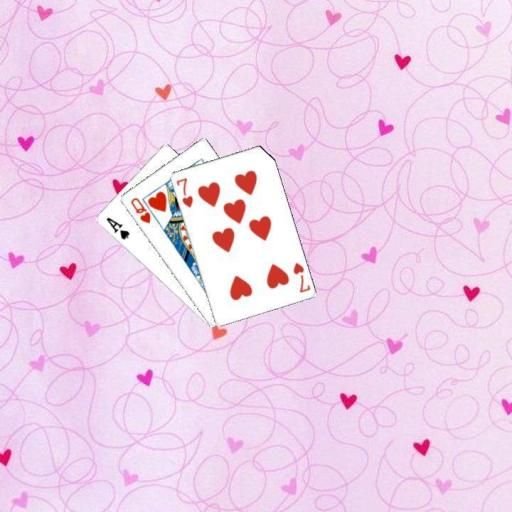card-corner: (102, 214, 131, 241), (127, 194, 152, 225), (290, 260, 312, 294), (173, 174, 194, 209)
